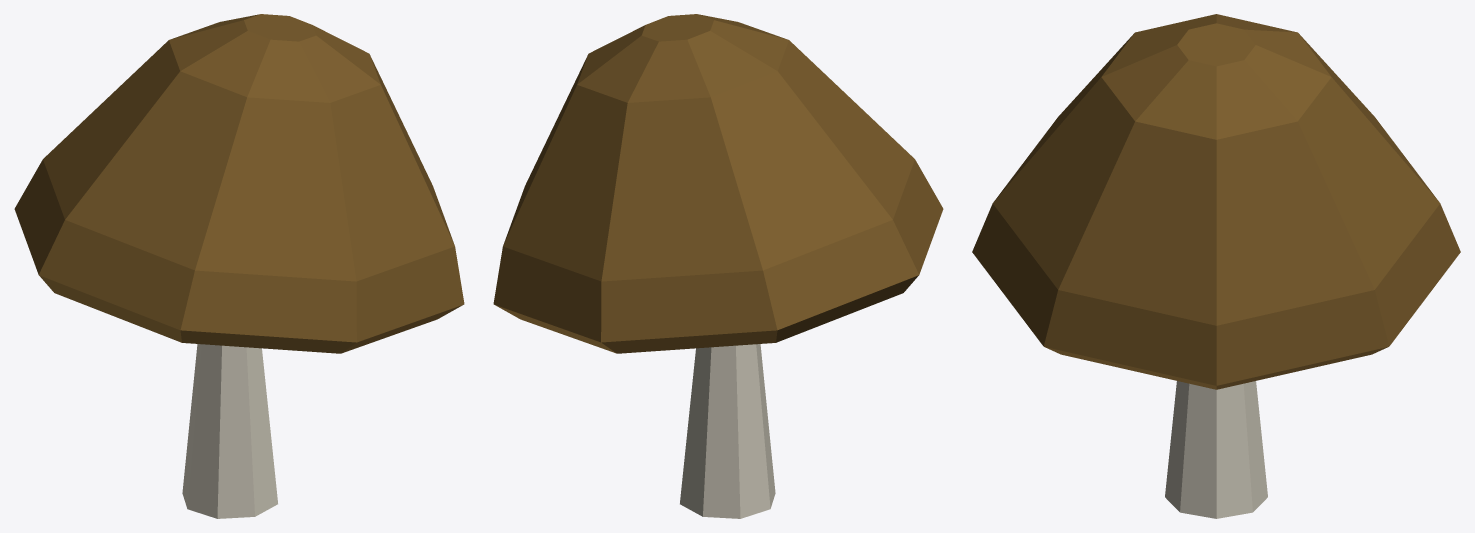
File: Mushroom.fbx
The picture shows the model from 3 angles, left to right: view 1: azimuth 30°, elevation 25°; view 2: azimuth 150°, elevation 25°; view 3: azimuth 270°, elevation 25°; orthographic projection. The views are drawn at different scales.
Parts seen in each view (by area): view 1: Mushroom; view 2: Mushroom; view 3: Mushroom.
Boxes of the visible parts, <box> form: Mushroom: <box>14,14,464,518</box>; Mushroom: <box>493,14,943,518</box>; Mushroom: <box>972,14,1460,518</box>.
Bounding box in the file's own units: 0.9432 × 1.04 × 0.955.
